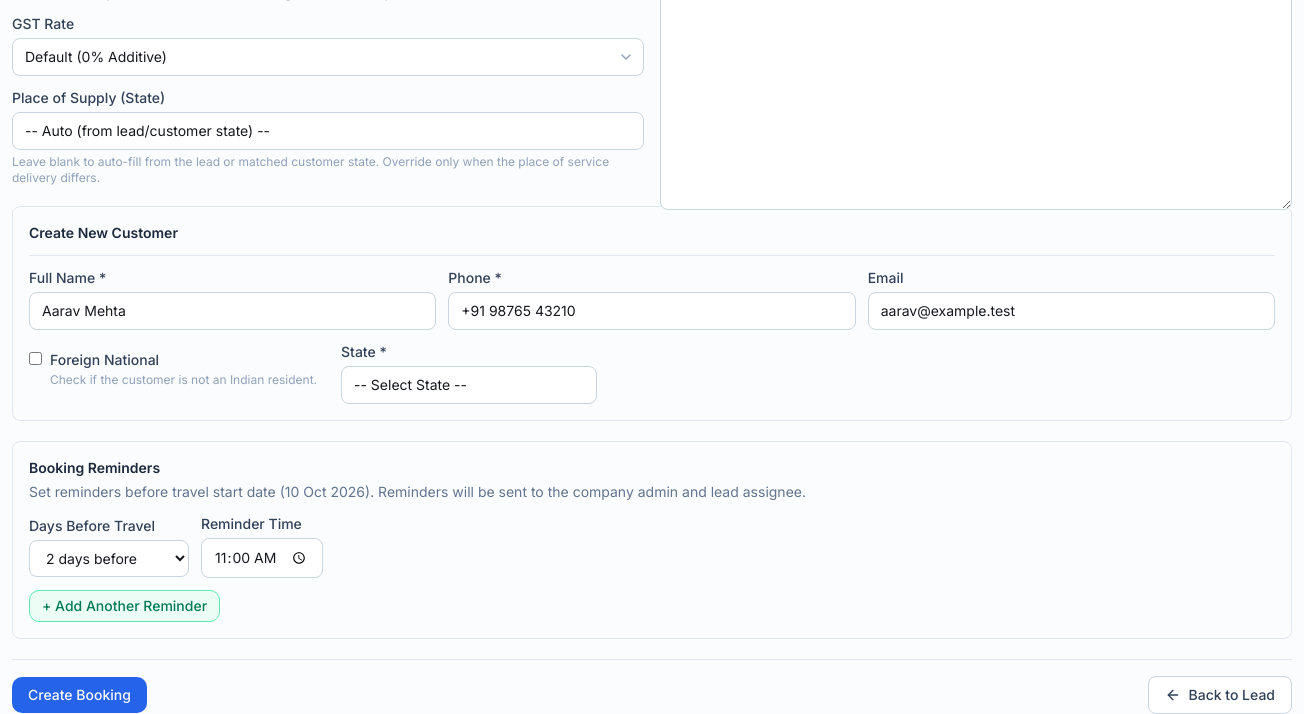
Test: Create Booking from Lead page › Booking Reminders › adds a new reminder with a blank offset and no duplicate error
This screenshot has width=1304, height=714.
(page scrolled)
Expected: the heading "Booking Reminders" is shown, [29, 459, 160, 476]
Click the button "+ Add Another Reminder": coordinates (125, 606) [29, 590, 220, 622]
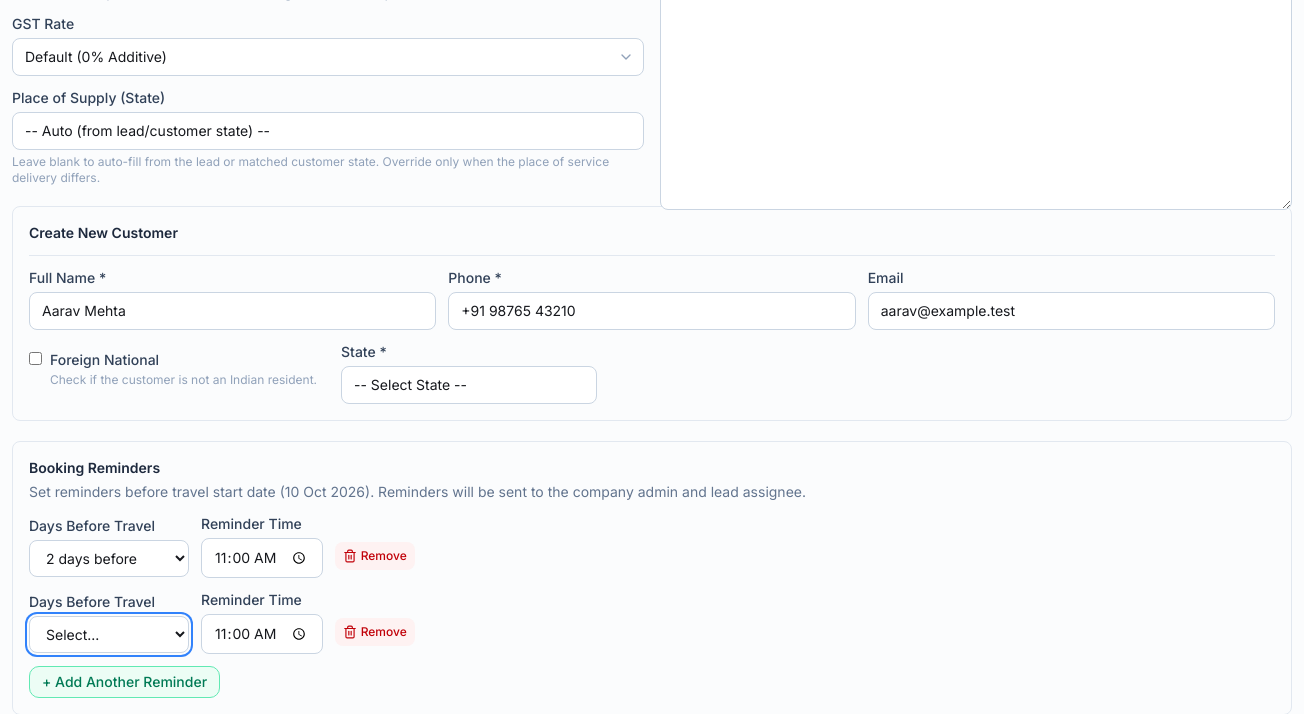
Expected: the number of dropdowns labelled "Days Before Travel" is 2, [29, 540, 189, 576]; [29, 616, 189, 652]
Result: the 2nd dropdown labelled "Days Before Travel" shows "Select..." at [29, 616, 189, 652]
